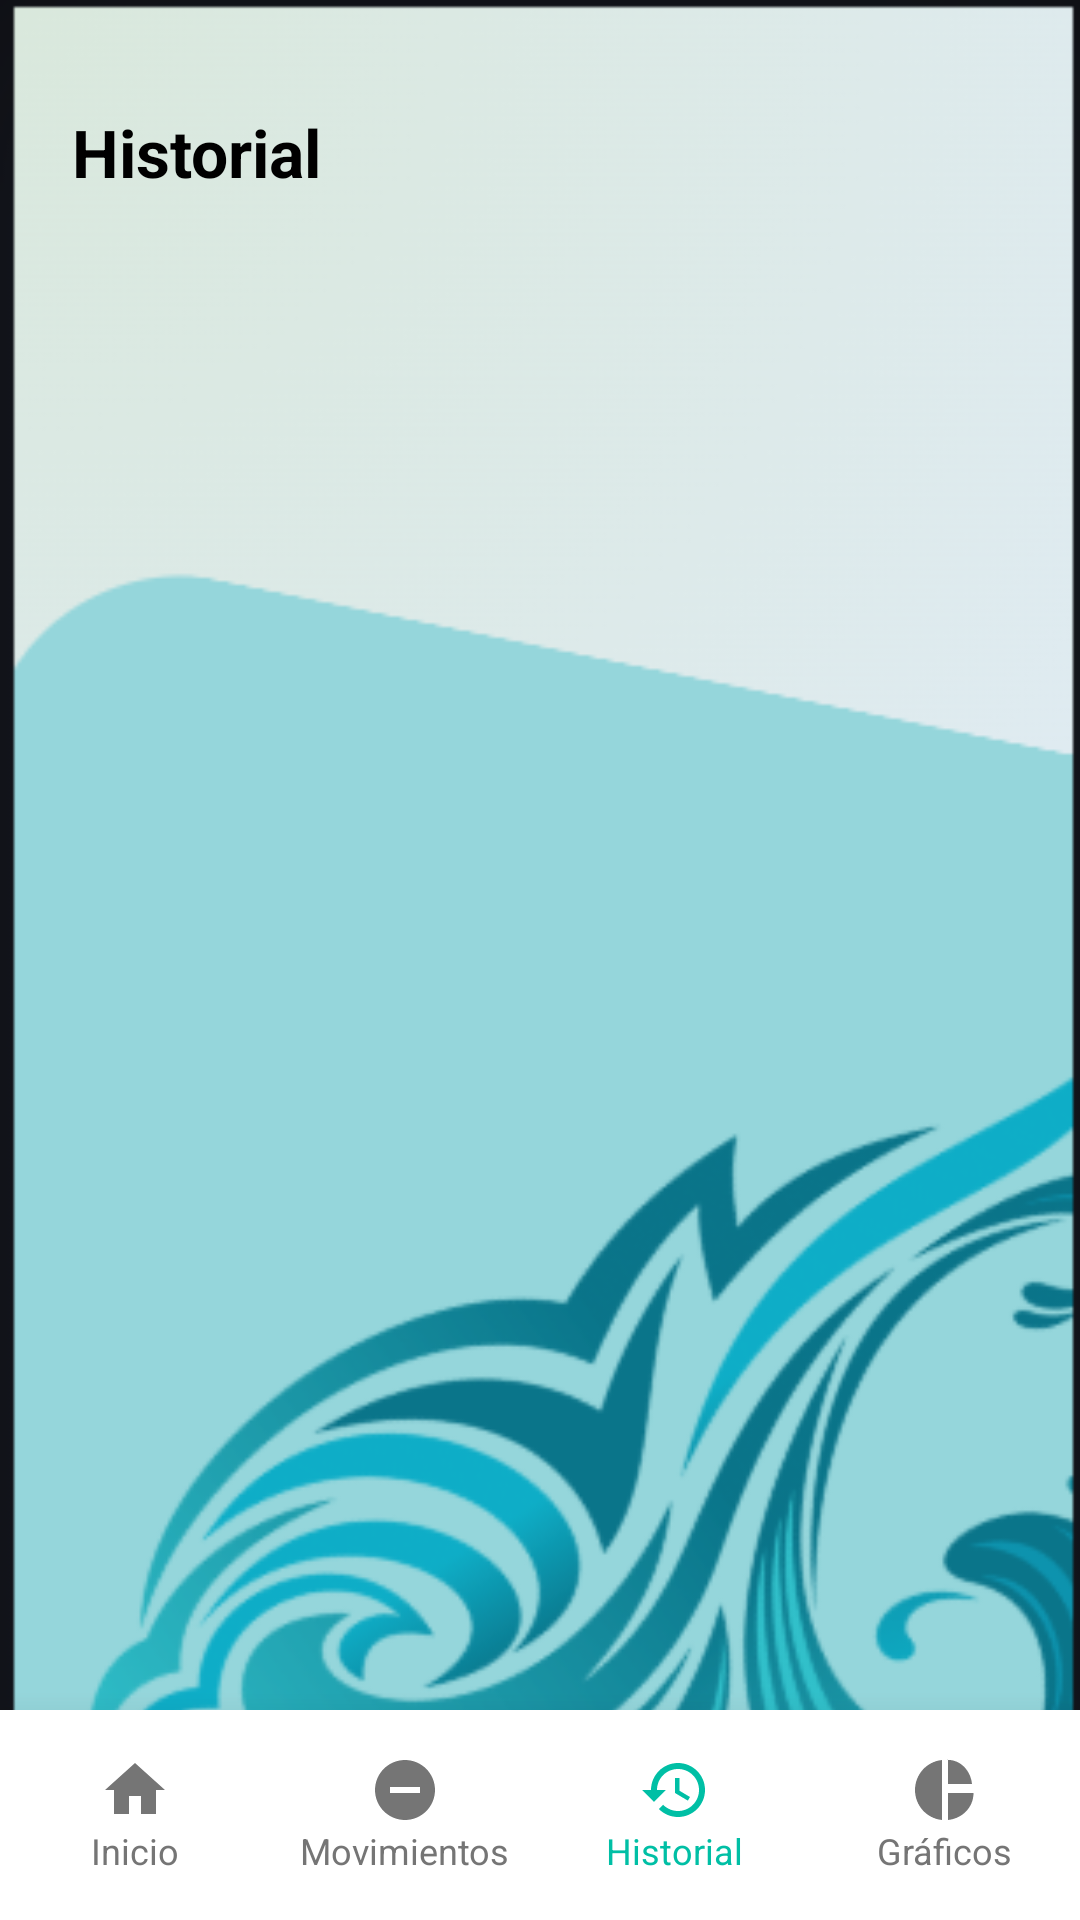

Named icons in this screenshot (1080*1920) and their bounding boxes, [x1=x1, y1=y1, x2=x2, y2=y2]:
minus circle: [x1=375, y1=1760, x2=435, y2=1820]
pie chart: [x1=915, y1=1759, x2=974, y2=1820]
